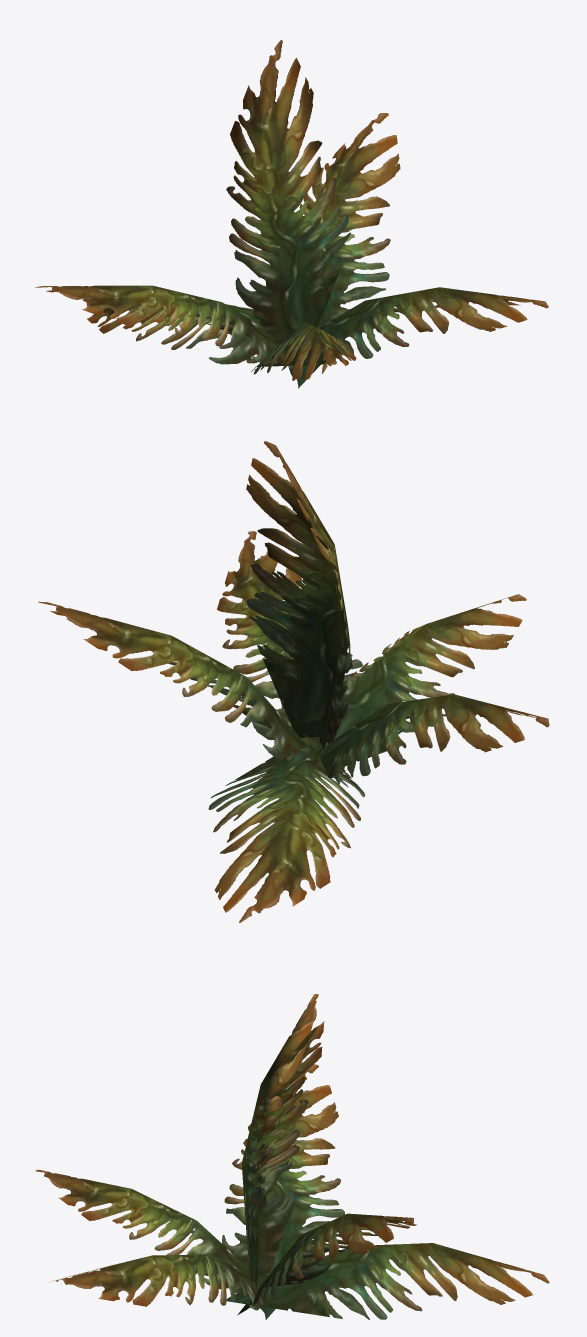
File: stemple_fern_blank_02.fbx
3 renders of one model, top to bottom at view 1: azimuth 30°, elevation 25°; view 2: azimuth 150°, elevation 25°; view 3: azimuth 270°, elevation 25°, orthographic. The views are drawn at different scales.
Parts seen in each view (by area): view 1: sunken_tileset/sunken_plants01_mat; view 2: sunken_tileset/sunken_plants01_mat; view 3: sunken_tileset/sunken_plants01_mat.
Part boxes in pixels (x1,y1,x2,y2): sunken_tileset/sunken_plants01_mat: (35, 40, 548, 388); sunken_tileset/sunken_plants01_mat: (38, 441, 549, 922); sunken_tileset/sunken_plants01_mat: (35, 994, 549, 1319).
Size of the model in its own units: 4.03 by 3.07 by 4.29.
